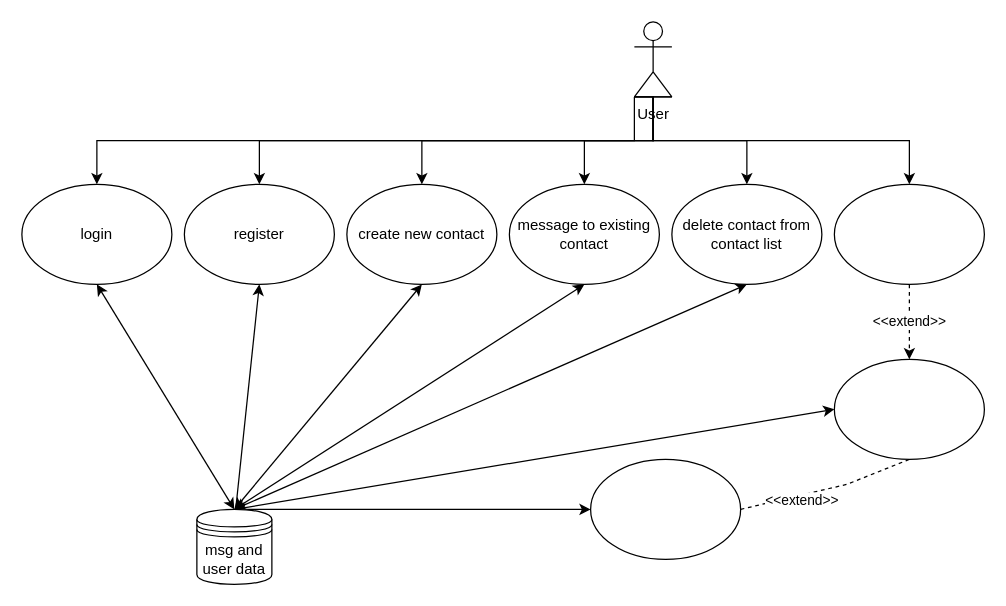
This 1006x606 diagram has some shape labels left out. The centre of each missing label's shape, as x and y in pixels:
"find user" goes at point (908, 233).
"list all people using the platform" goes at point (908, 408).
"see other's messages" goes at point (665, 508).
